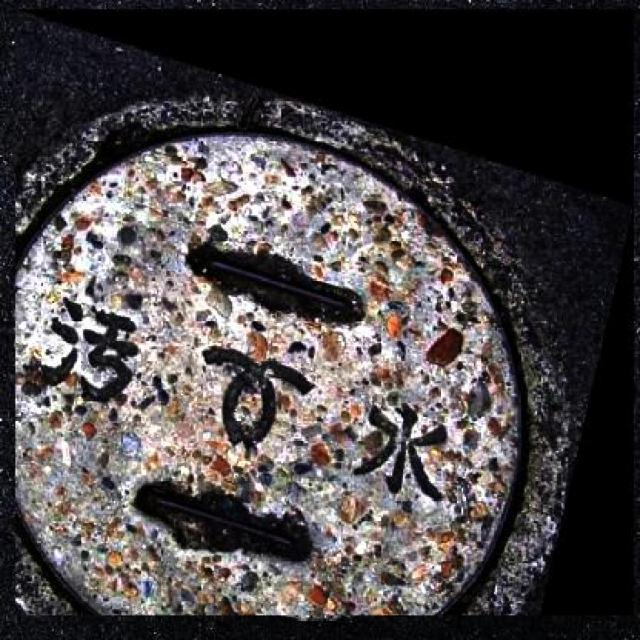Manhole: (15, 9, 634, 616)
